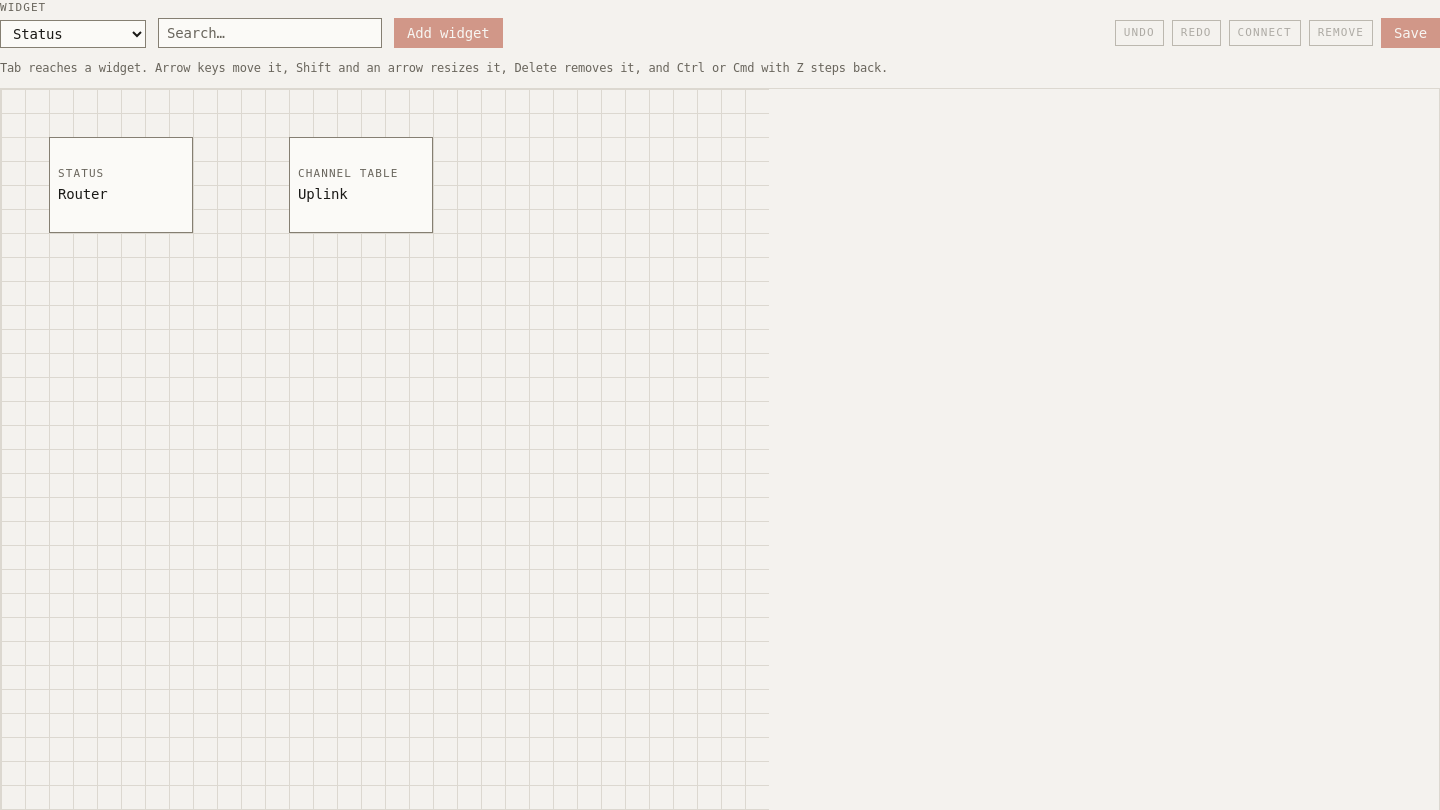
Test: the designer canvas › keeps the work when the core refuses the save
Focus the button with aria-label "Router,": [121, 185] box [49,137,193,233]
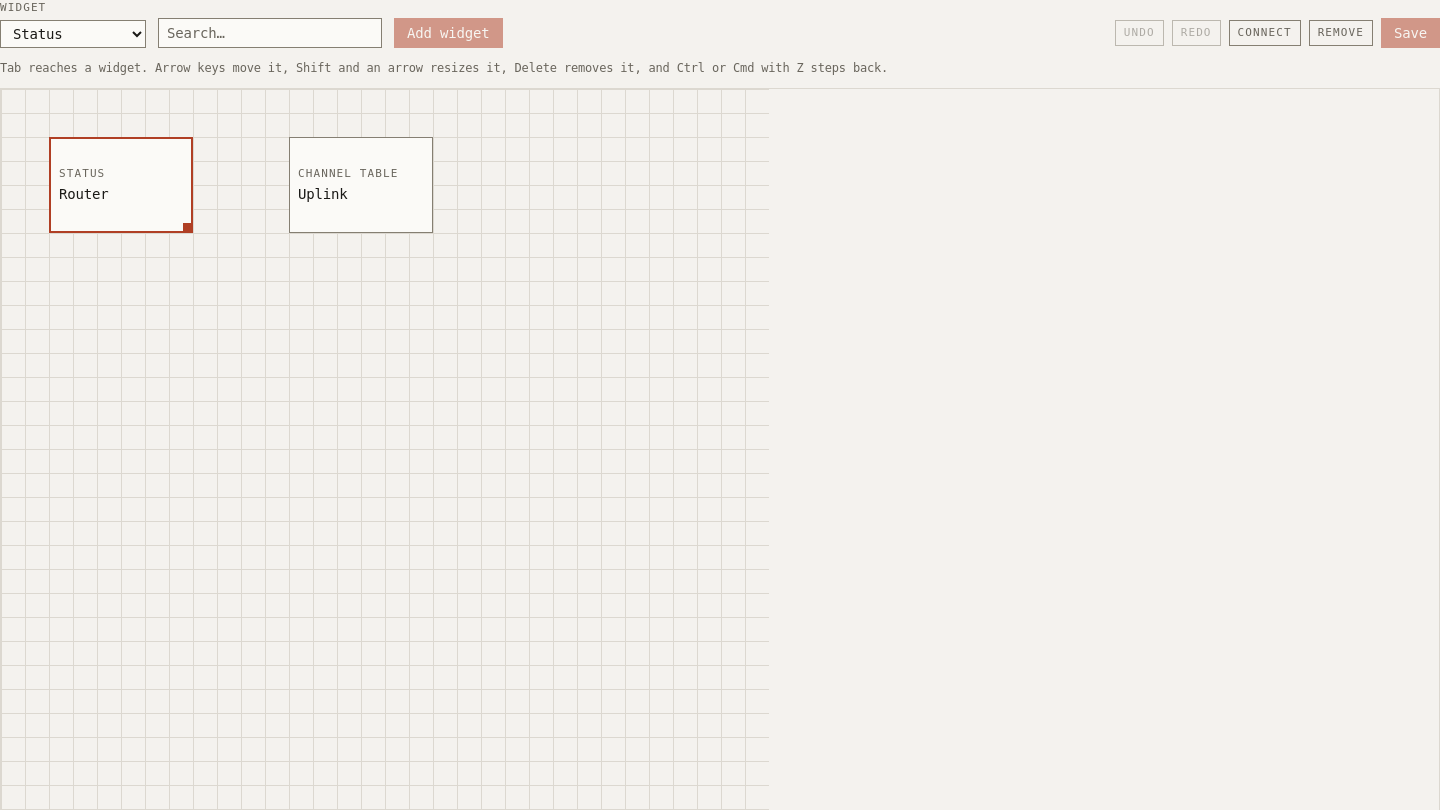
Press ArrowRight in the button with aria-label "Router,", box [49,137,193,233]
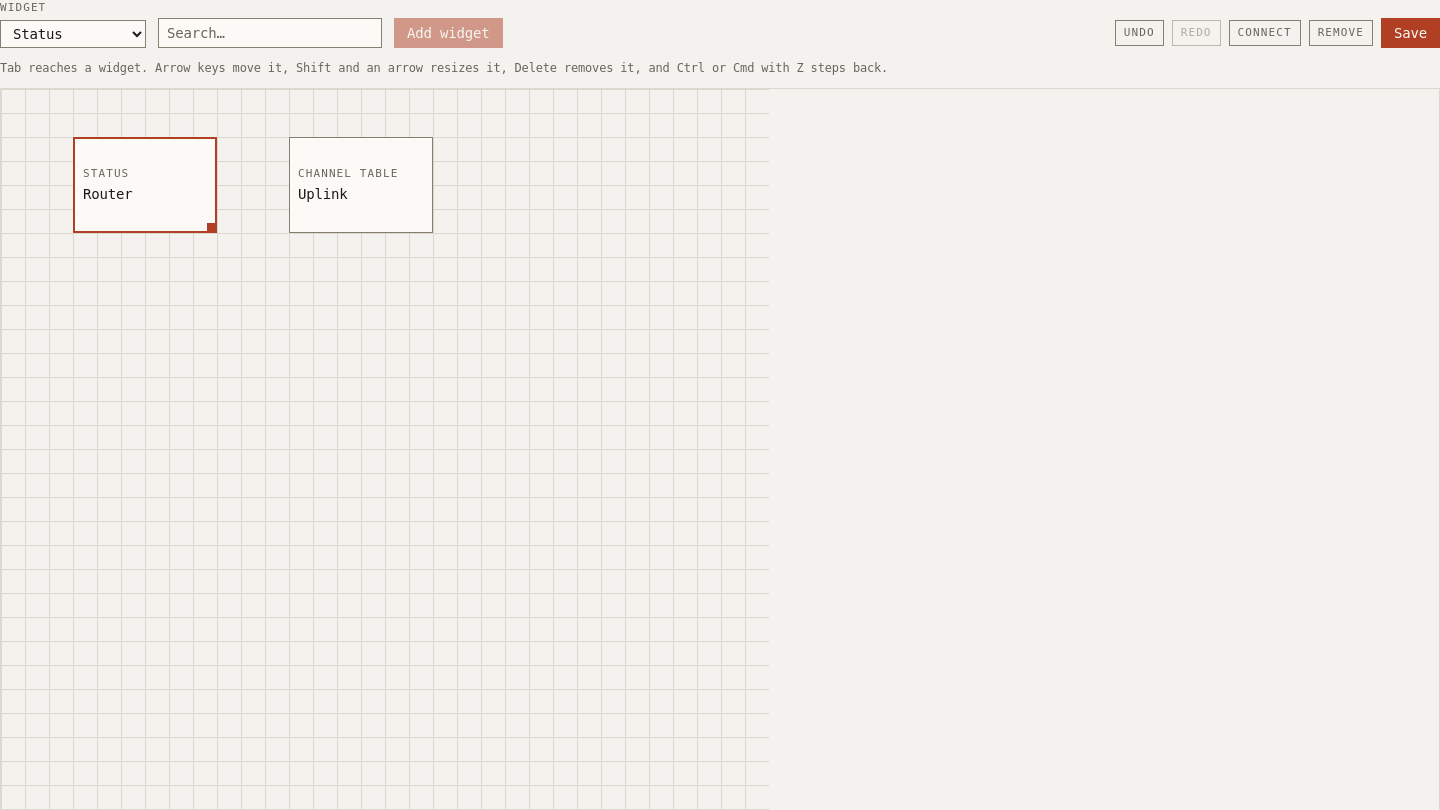
Expected: the button "Save" is enabled
Click the button "Save": [1410, 33] box [1381,18,1439,48]
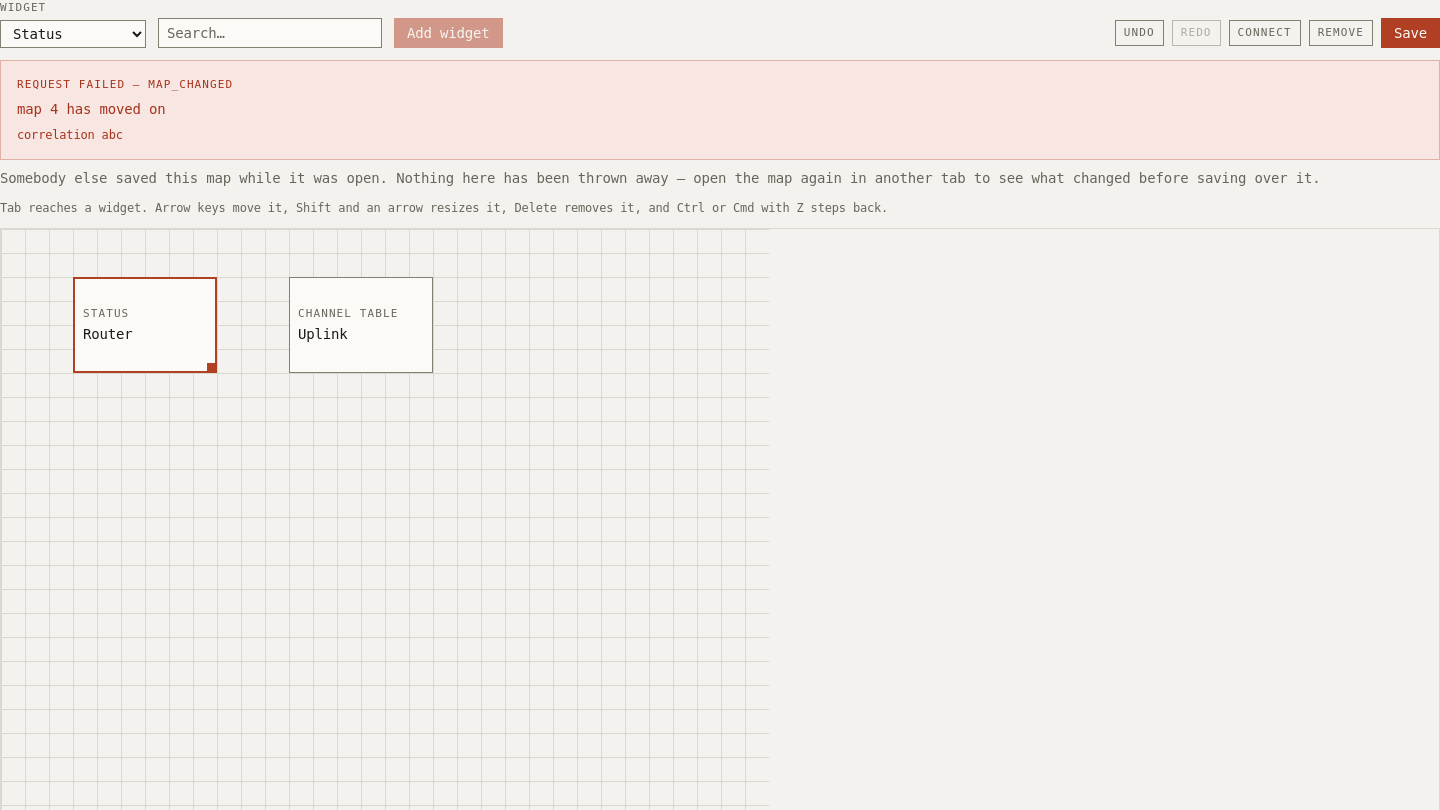
Expected: the button with aria-label "Router, Status, column 4, row 3, 6 by 4" is shown, [73,277,217,373]
Expected: the message shows "MAP_CHANGED", [17,78,233,91]
Expected: the text "Somebody else saved this map" is shown, [0,170,1320,186]
